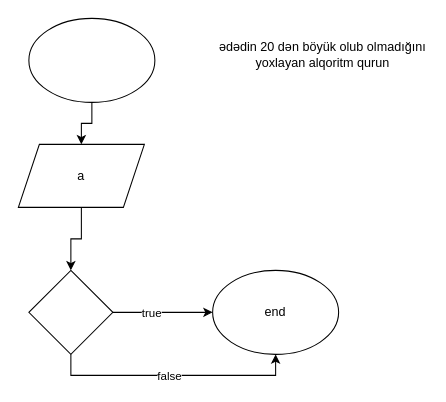
Some shapes in this 446 by 402 pixel diagram are drawn without their labels. Each missing label, with the box of its shape:
a>20: (28, 269, 113, 354)
start: (28, 17, 155, 102)
